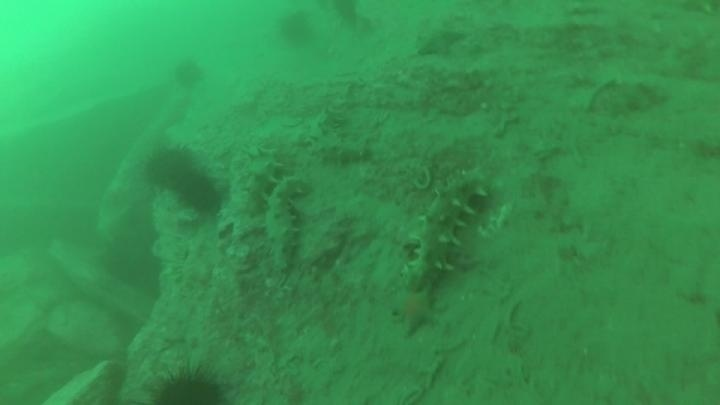echinus: (147, 361, 230, 405), (141, 142, 197, 192), (175, 170, 223, 216), (275, 9, 316, 48), (171, 56, 207, 90)
holothurian: (405, 167, 492, 289), (261, 173, 310, 273), (309, 104, 376, 168), (585, 76, 672, 121), (240, 142, 285, 217)
starfish: (389, 284, 440, 338), (413, 22, 468, 60)
